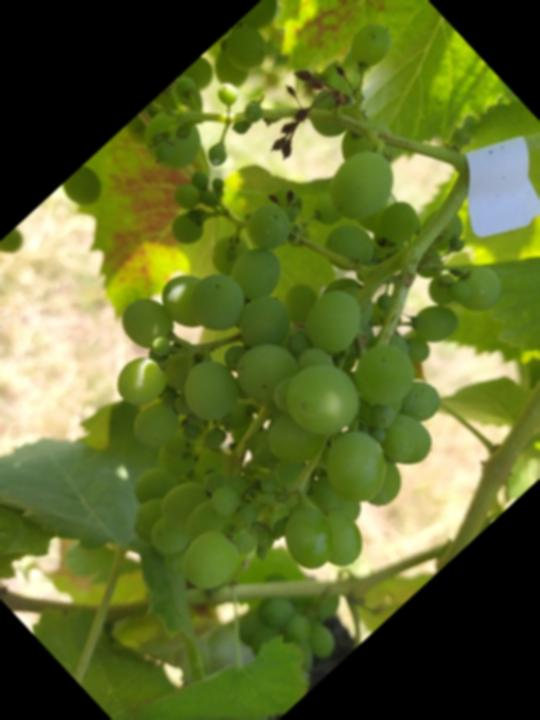grape: (0, 0, 540, 660)
